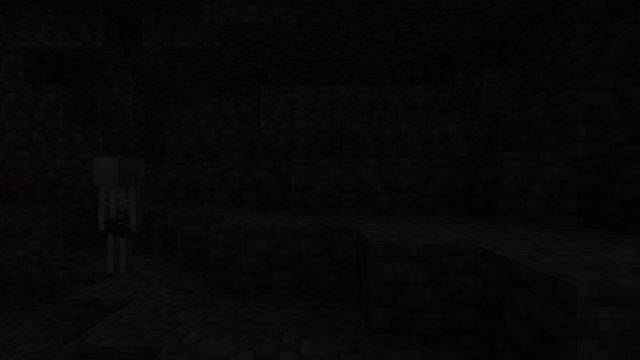squelettes: (87, 157, 148, 278)
